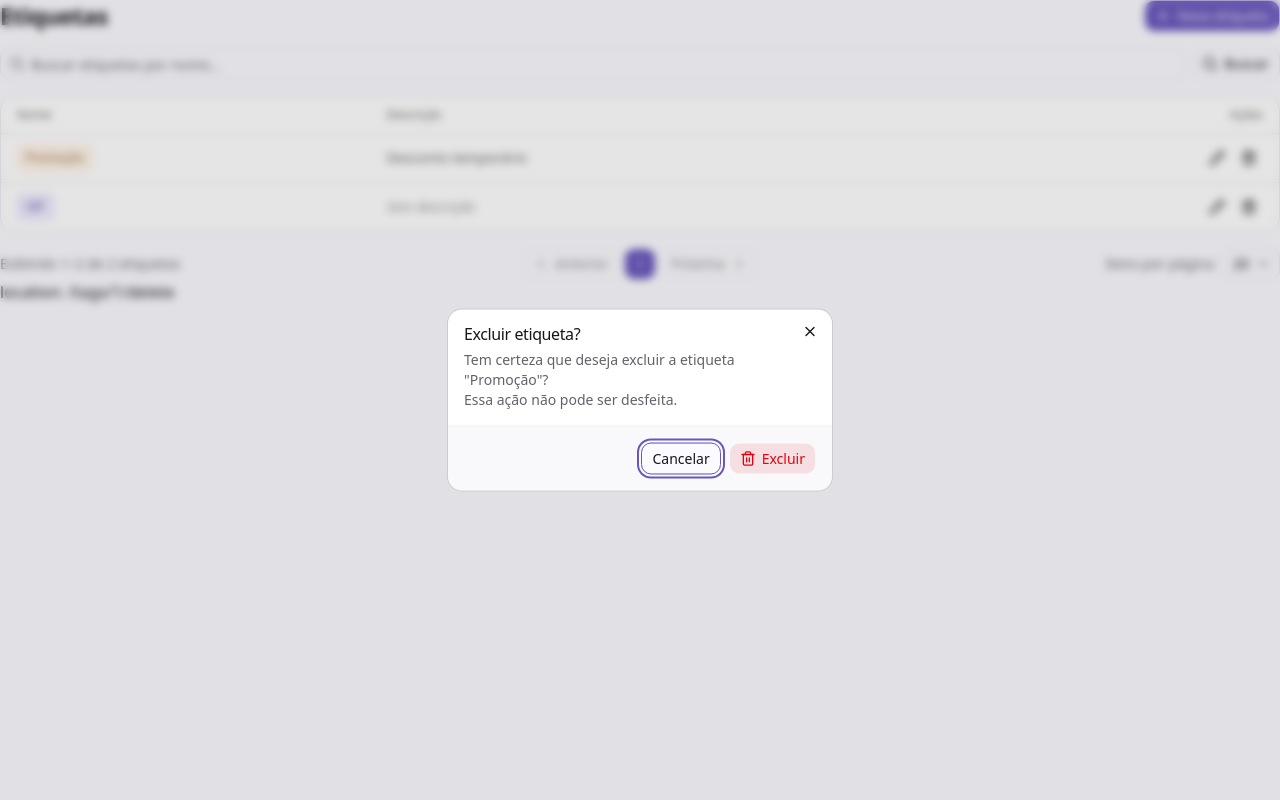
Test: TagDeletePage › shows the backend totals and received names without extra limit notices
Expected: the text "Tem certeza que deseja excluir a etiqueta \"Promoção\"?" is shown, x1=464 y1=350 x2=735 y2=388
What coordinates should you click on to do the following:
click the button "Excluir"
I would click on:
 (772, 458)
Its box is x1=729 y1=442 x2=816 y2=474.
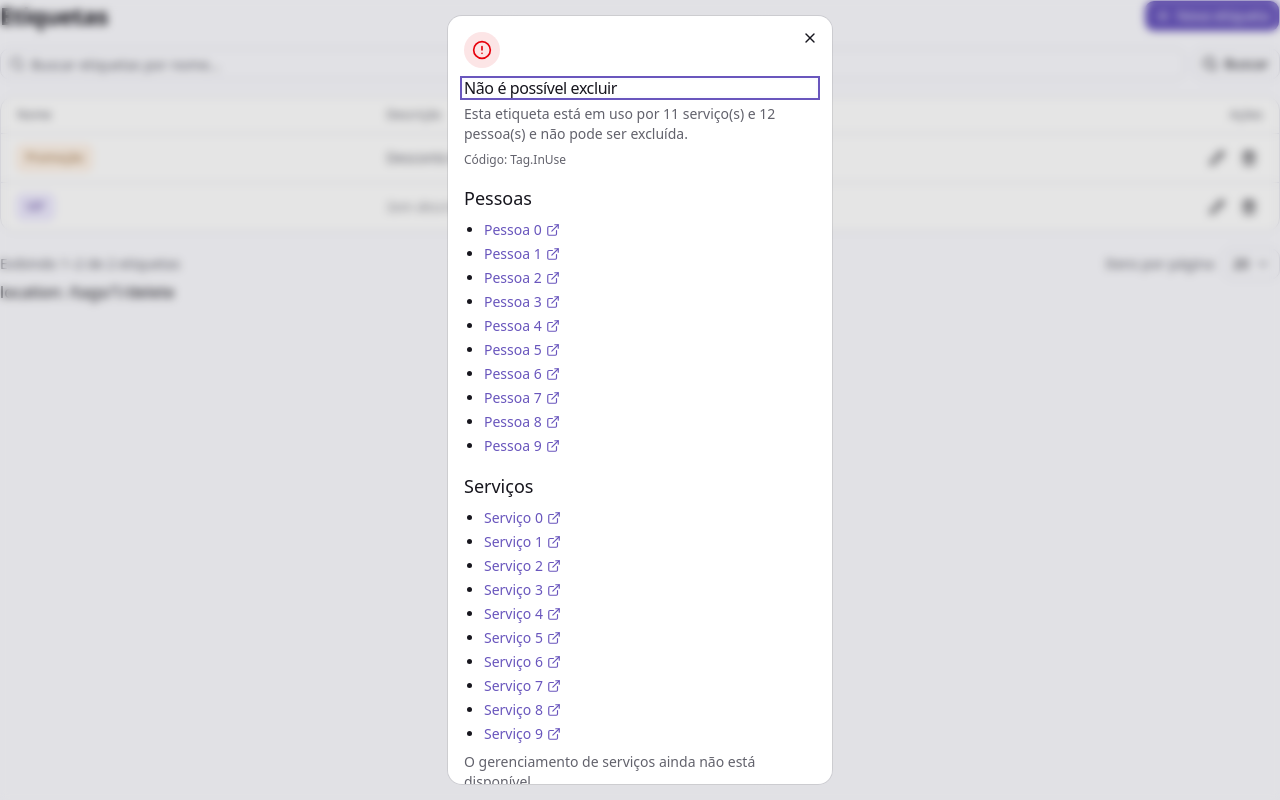
Now the text "Esta etiqueta está em uso por 11 serviço(s) e 12 pessoa(s) e não pode ser excluída." is shown, box x1=464 y1=104 x2=775 y2=143
